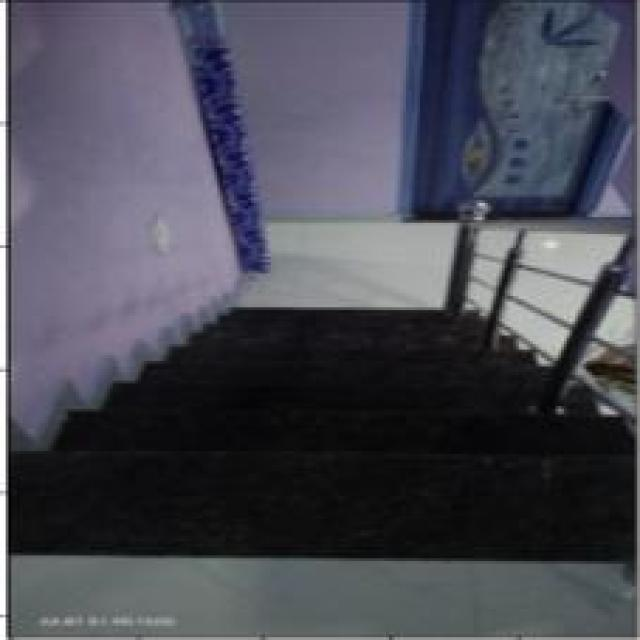Stair Down: (29, 307, 628, 474)
